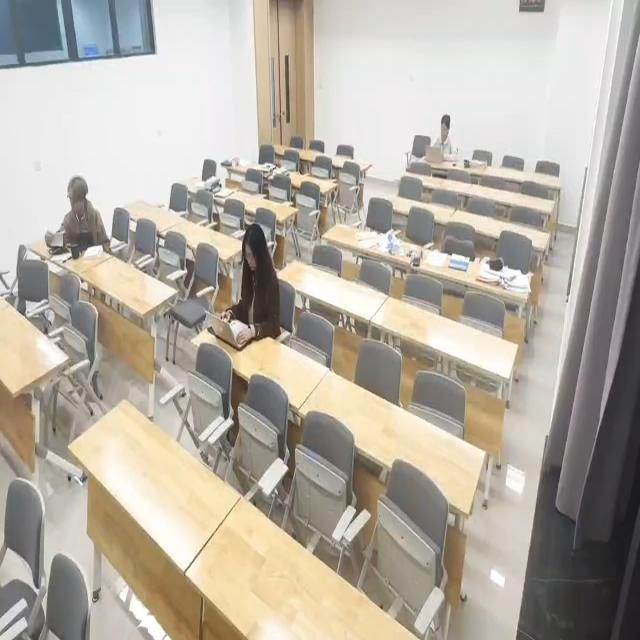Non-empty: (190, 308, 331, 410), (0, 285, 69, 394), (324, 222, 436, 277), (417, 249, 532, 299), (27, 220, 120, 280), (218, 154, 300, 188), (177, 177, 250, 208)
empty: (191, 499, 420, 640), (70, 390, 244, 572), (300, 370, 489, 522), (368, 293, 516, 385), (277, 252, 388, 318), (78, 250, 181, 316), (450, 207, 552, 252), (161, 218, 244, 265), (466, 178, 557, 217), (371, 189, 455, 225), (226, 187, 300, 226), (118, 196, 183, 230), (395, 165, 473, 193), (288, 172, 343, 201), (262, 141, 324, 166)
